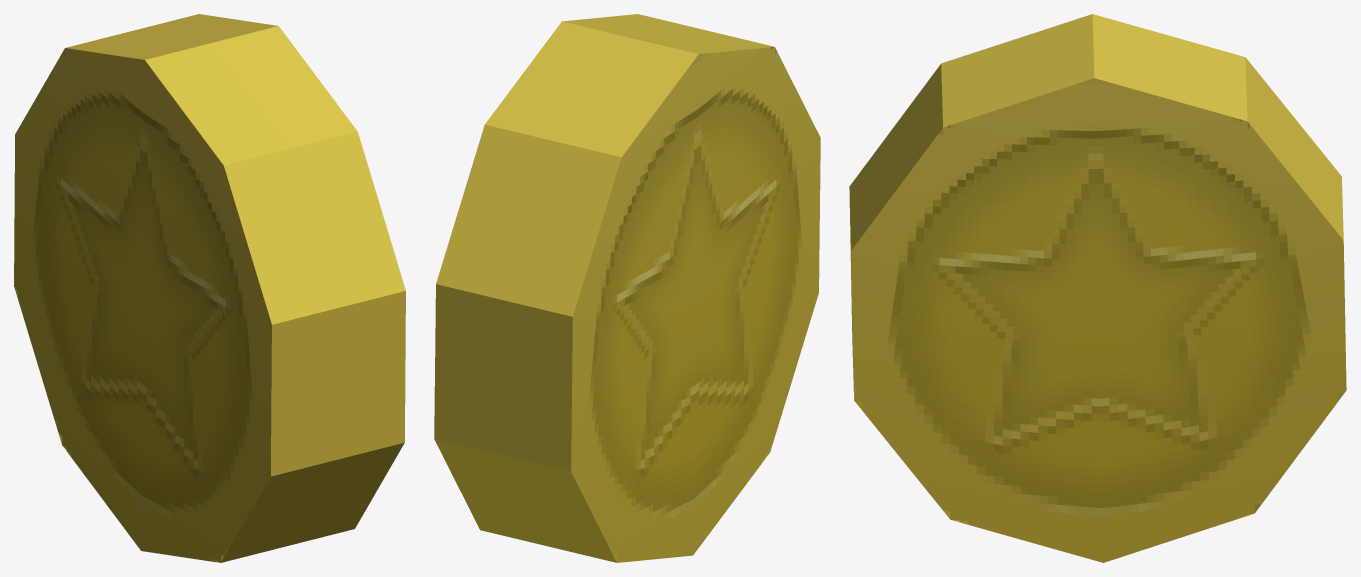
The model's file is coin_1.008_lev1_lev3.glb.
The picture shows the model from 3 angles, left to right: view 1: azimuth 30°, elevation 25°; view 2: azimuth 150°, elevation 25°; view 3: azimuth 270°, elevation 25°; orthographic projection. The views are drawn at different scales.
Visible parts, largest first — view 1: coin_1.008_lev1_lev3; view 2: coin_1.008_lev1_lev3; view 3: coin_1.008_lev1_lev3.
Boxes of the visible parts, <box> form: coin_1.008_lev1_lev3: <box>14,14,405,562</box>; coin_1.008_lev1_lev3: <box>434,14,820,562</box>; coin_1.008_lev1_lev3: <box>849,14,1346,562</box>.
Bounding box in the file's own units: 0.9022 × 3.03 × 2.82.
1 material, 1 textured.
